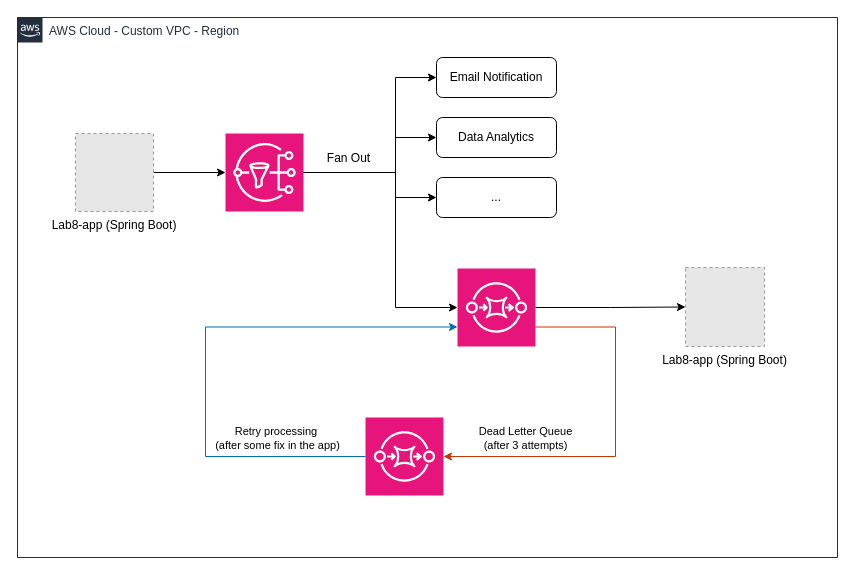
Some shapes in this 855 by 575 pixel diagram are drawn without their labels. Grey dashed boxes stand in for pictures. Each missing label, with the box of its shape:
SNS Topic - lab8-orders: (224, 132, 304, 212)
SQS DLQ - lab8-order-dlq: (364, 416, 444, 496)
SQS Queue - lab8-order-queue: (456, 268, 536, 346)
